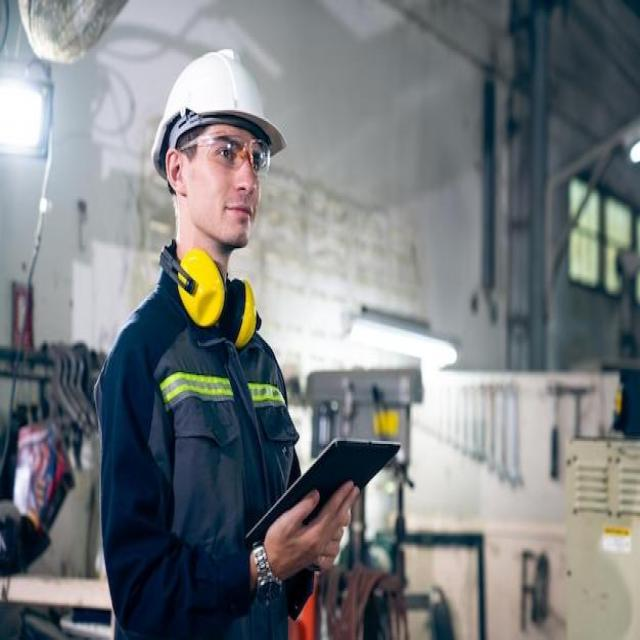Safety-Helmet: (146, 43, 290, 181)
